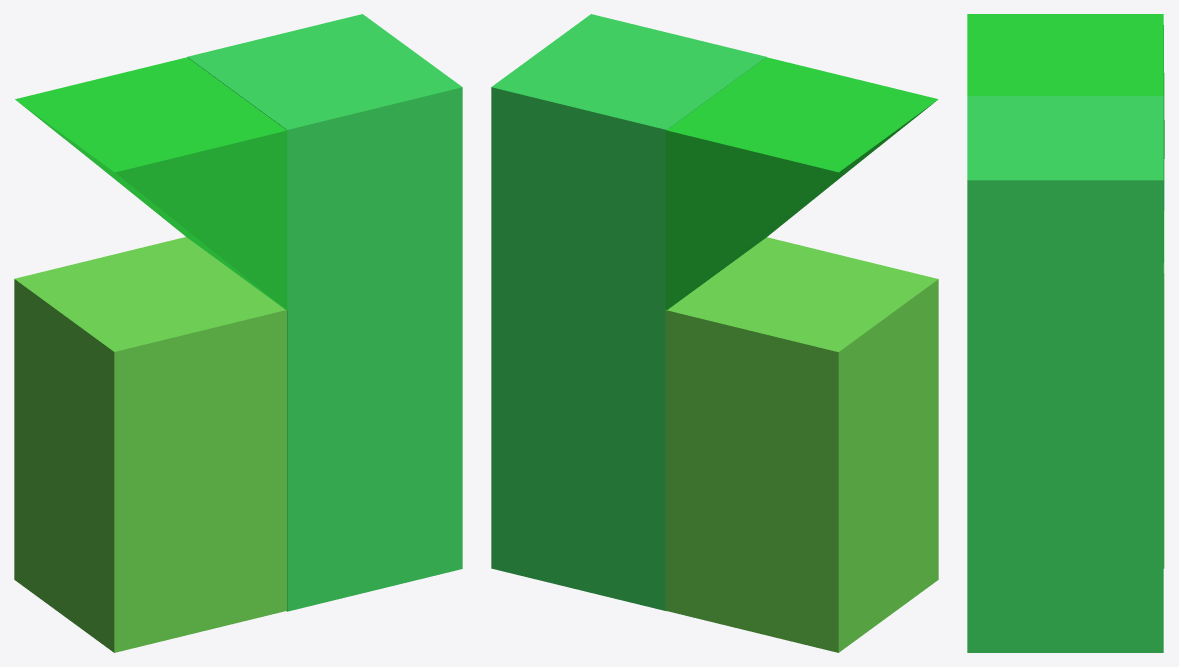
File: wall_game_1.fbx
The picture shows the model from 3 angles, left to right: view 1: azimuth 30°, elevation 25°; view 2: azimuth 150°, elevation 25°; view 3: azimuth 270°, elevation 25°; orthographic projection.
Parts seen in each view (by area): view 1: Cube, Cube.002, Cube.001; view 2: Cube, Cube.002, Cube.001; view 3: Cube, Cube.001, Cube.002.
Part boxes in pixels (x1,y1,x2,y2): Cube: [187, 14, 462, 611]; Cube.002: [14, 237, 286, 652]; Cube.001: [15, 57, 287, 310]; Cube: [491, 14, 766, 611]; Cube.002: [665, 237, 938, 652]; Cube.001: [665, 57, 938, 309]; Cube: [967, 96, 1163, 652]; Cube.001: [967, 14, 1164, 262]; Cube.002: [1163, 211, 1164, 568].
Bounding box in the file's own units: 402 × 531 × 201.
